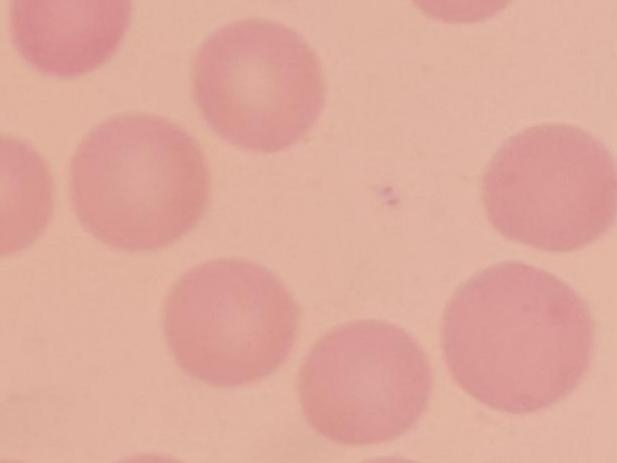Uninfected: (440, 259, 593, 415), (72, 113, 210, 250), (191, 22, 325, 154), (299, 318, 434, 448), (161, 258, 298, 386), (483, 122, 616, 253), (6, 0, 135, 83)
